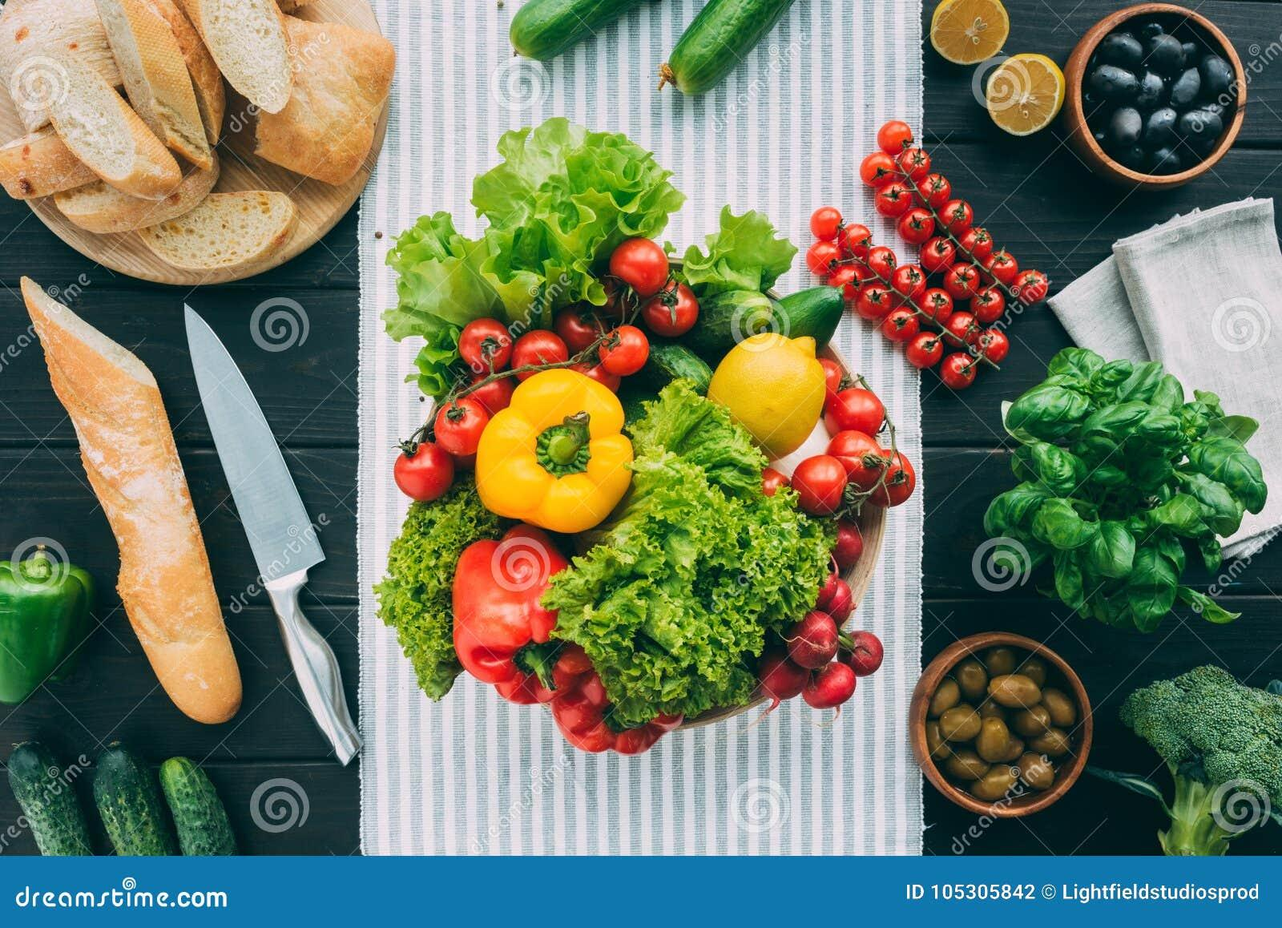bell pepper: (468, 363, 659, 552)
broccoli: (544, 384, 847, 746), (1118, 669, 1277, 859)
spinch: (333, 61, 670, 291)
tomato: (788, 113, 1101, 415)
